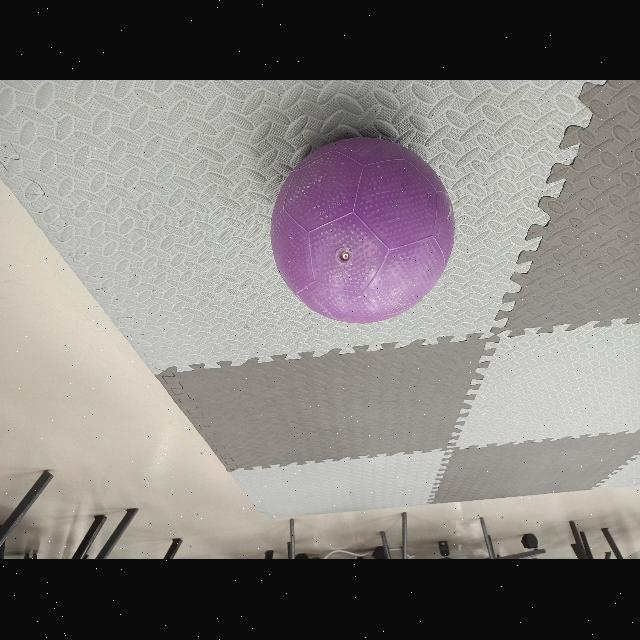P: (266, 132, 458, 322)
